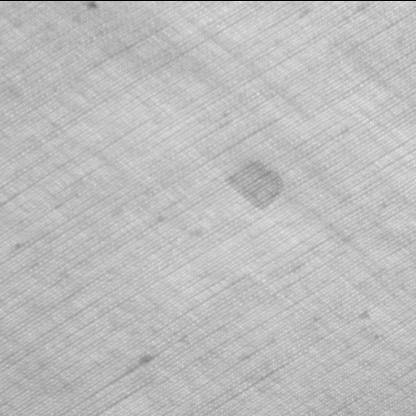oil spot: (224, 158, 288, 209)
